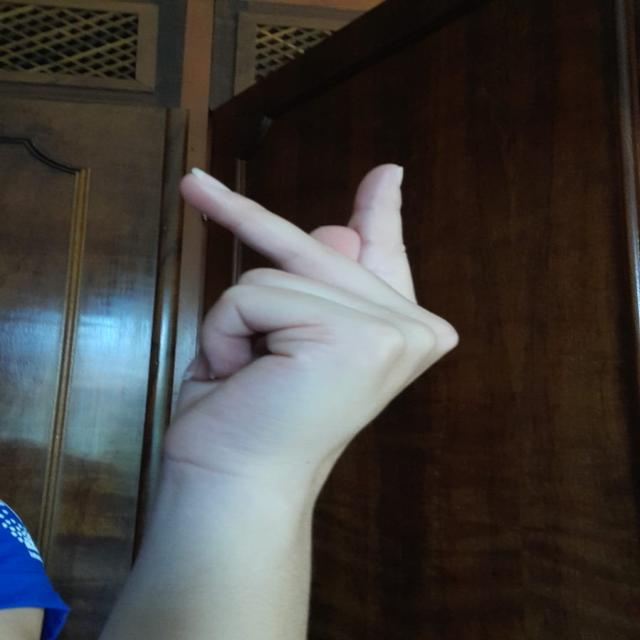K: (156, 130, 474, 454)
